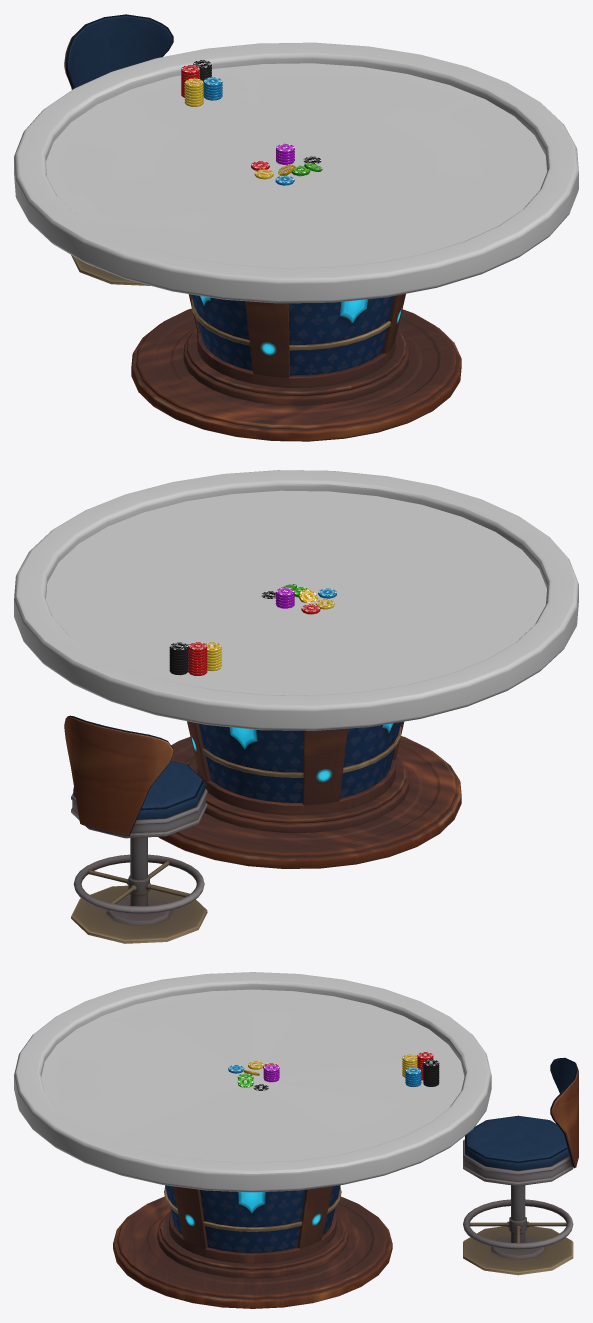
File: Table.fbx
3 renders of one model, top to bottom at view 1: azimuth 30°, elevation 25°; view 2: azimuth 150°, elevation 25°; view 3: azimuth 270°, elevation 25°, orthographic. The views are drawn at different scales.
Visible parts, largest first — view 1: Table, Chair; view 2: Table, Chair; view 3: Table, Chair.
Boxes of the visible parts, x1,y1,x2,y2 form: Table: (14,42,578,441); Chair: (64,14,173,285); Table: (14,470,578,868); Chair: (64,715,207,943); Table: (14,972,491,1308); Chair: (463,1057,578,1275).
Size of the model in its own units: 191 by 85.57 by 226.
